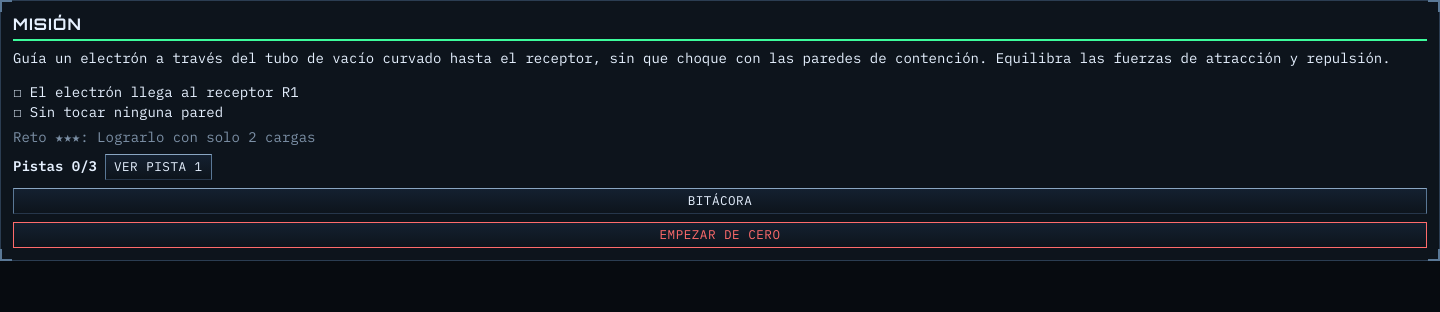
Test case: Componentes › misión: avisa antes de abrir la primera pista
Step 1. Click the button "Ver pista 1" → (158, 167), box x1=105 y1=154 x2=212 y2=180
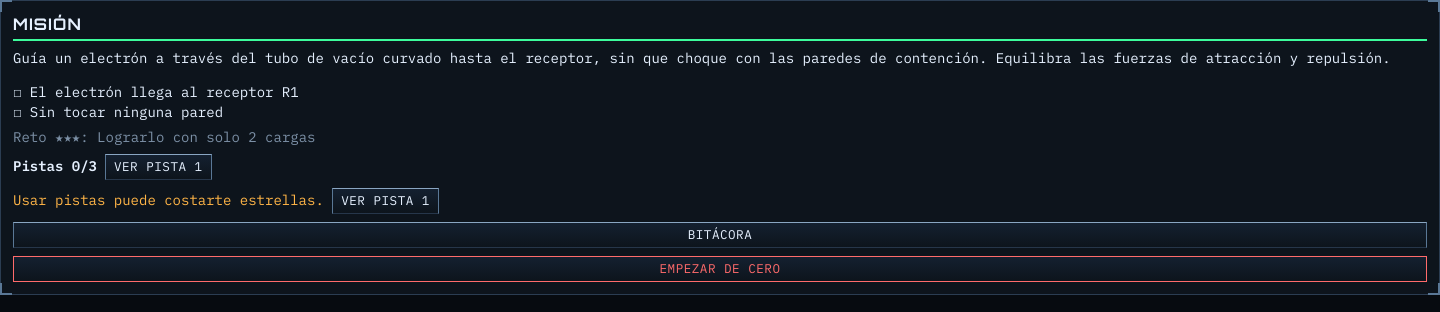
Expected: the text "Usar pistas puede costarte estrellas. Ver pista 1" is shown, x1=13 y1=188 x2=439 y2=214
